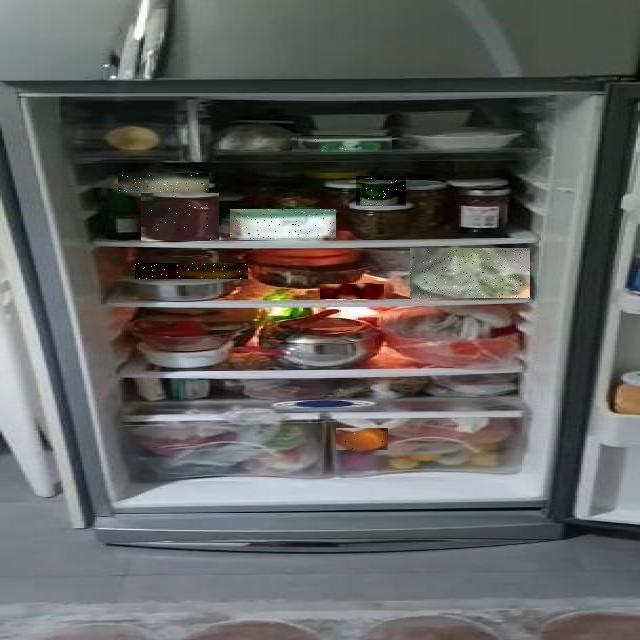Banana: (135, 263, 248, 279)
Cheese: (230, 210, 336, 240), (118, 173, 209, 192)
Cream: (293, 136, 393, 152)
Lemon: (337, 428, 389, 450)
Lettuce: (410, 248, 530, 298)
Tomato Paste: (320, 284, 384, 299)
Tomatoes: (141, 193, 219, 241)
Yoghurt: (356, 176, 406, 206)
